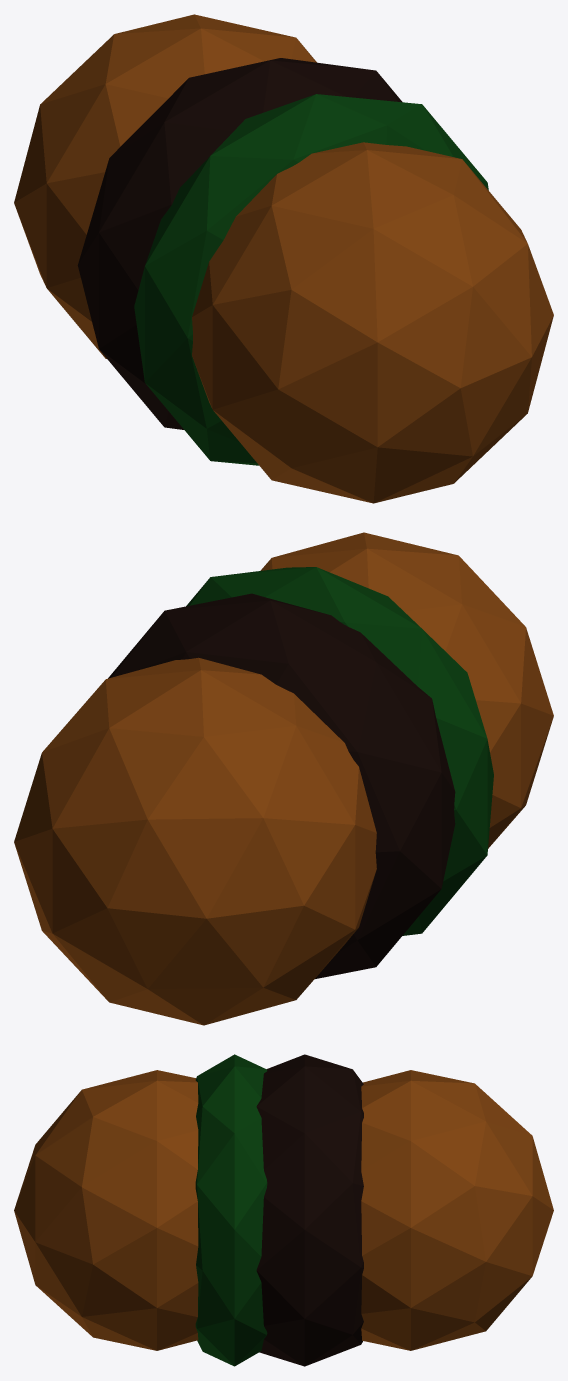
The model's file is burger.fbx.
3 views of the same model, one above another, from view 1: azimuth 30°, elevation 25°; view 2: azimuth 150°, elevation 25°; view 3: azimuth 270°, elevation 25° (orthographic). The views are drawn at different scales.
Visible parts, largest first — view 1: burger; view 2: burger; view 3: burger.
Part boxes in pixels (<box>): burger: <box>14,14,553,503</box>; burger: <box>14,532,553,1025</box>; burger: <box>14,1054,553,1366</box>.
Size of the model in its own units: 211 by 222 by 377.
